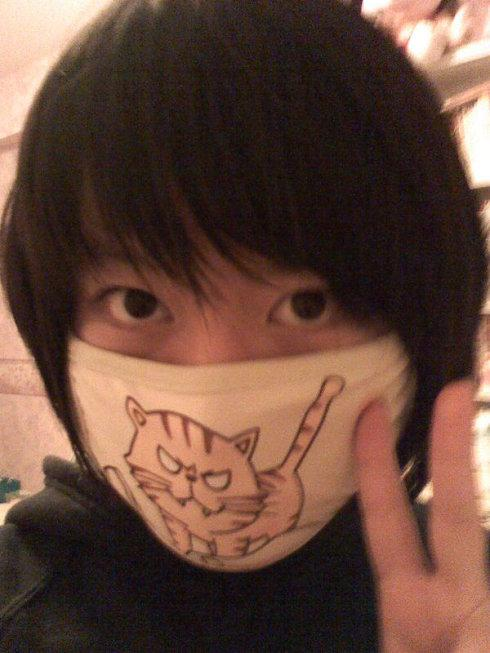OK: (53, 214, 402, 563)
